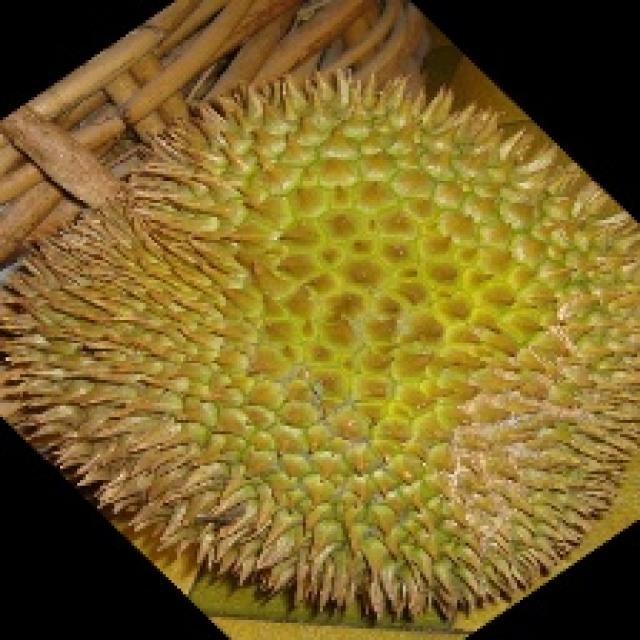d24: (19, 56, 618, 561)
